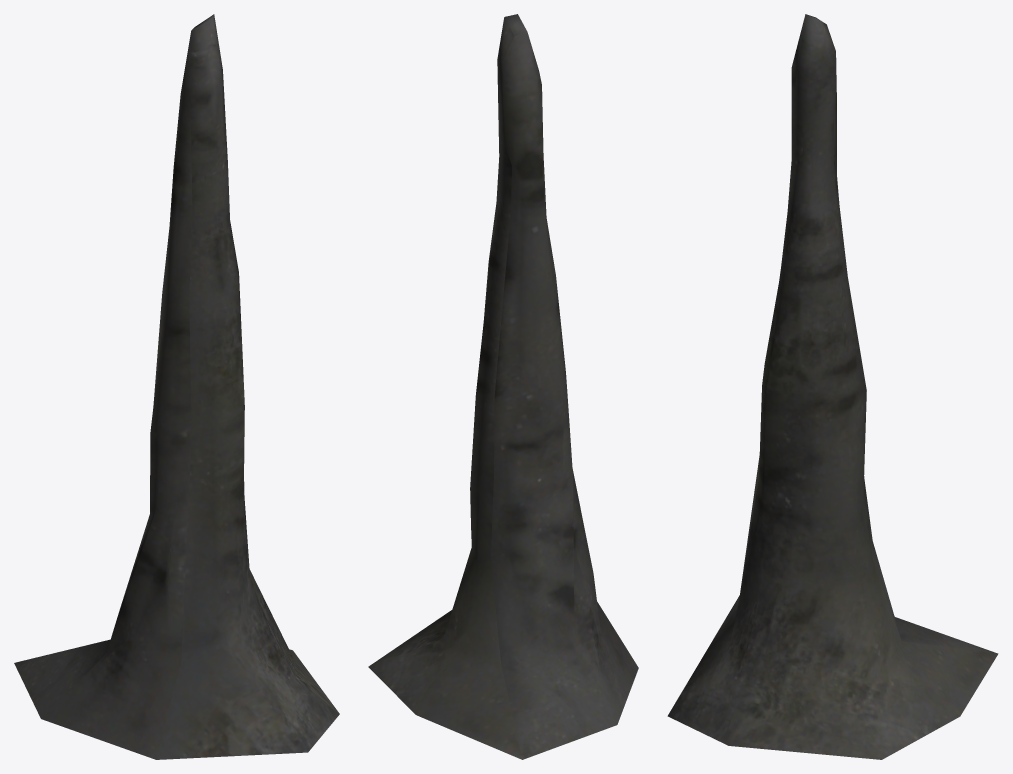
The model's file is rock_forest_stalgamite07.DAE.
The picture shows the model from 3 angles, left to right: view 1: azimuth 30°, elevation 25°; view 2: azimuth 150°, elevation 25°; view 3: azimuth 270°, elevation 25°; orthographic projection. The views are drawn at different scales.
Parts seen in each view (by area): view 1: Object007; view 2: Object007; view 3: Object007.
Boxes of the visible parts, x1=… form: Object007: x1=14, y1=14, x2=339, y2=759; Object007: x1=368, y1=14, x2=638, y2=759; Object007: x1=667, y1=14, x2=998, y2=759.
Bounding box in the file's own units: 1.09 × 2.81 × 1.22.
